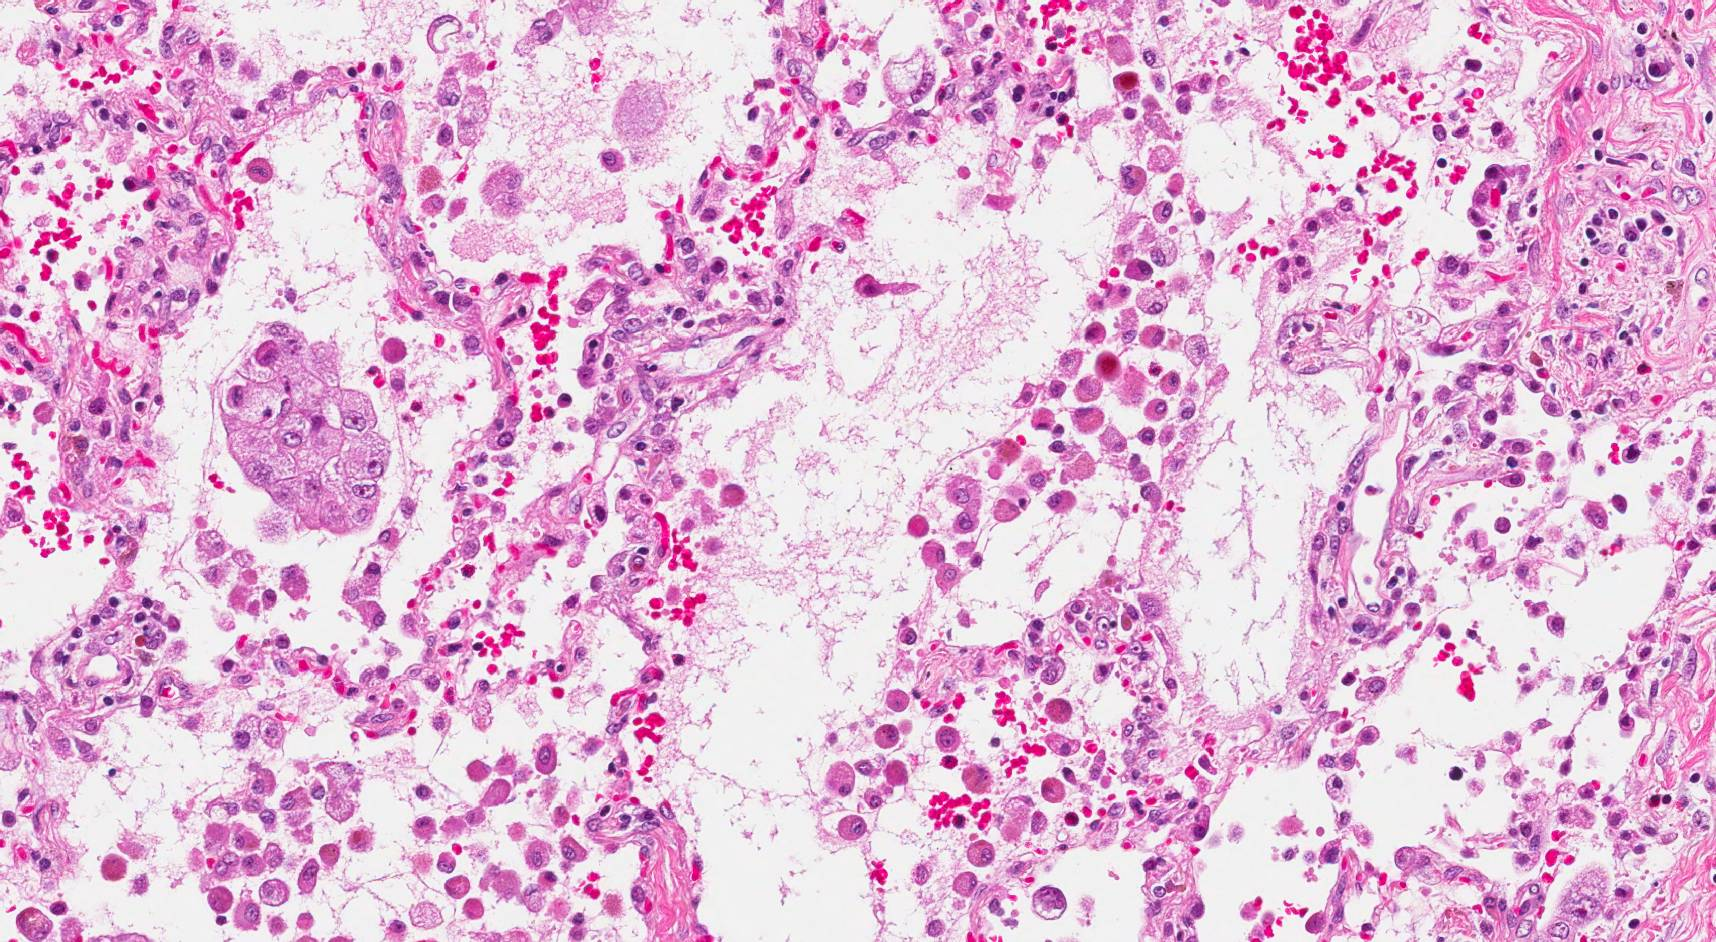stas: (223, 323, 394, 537)
